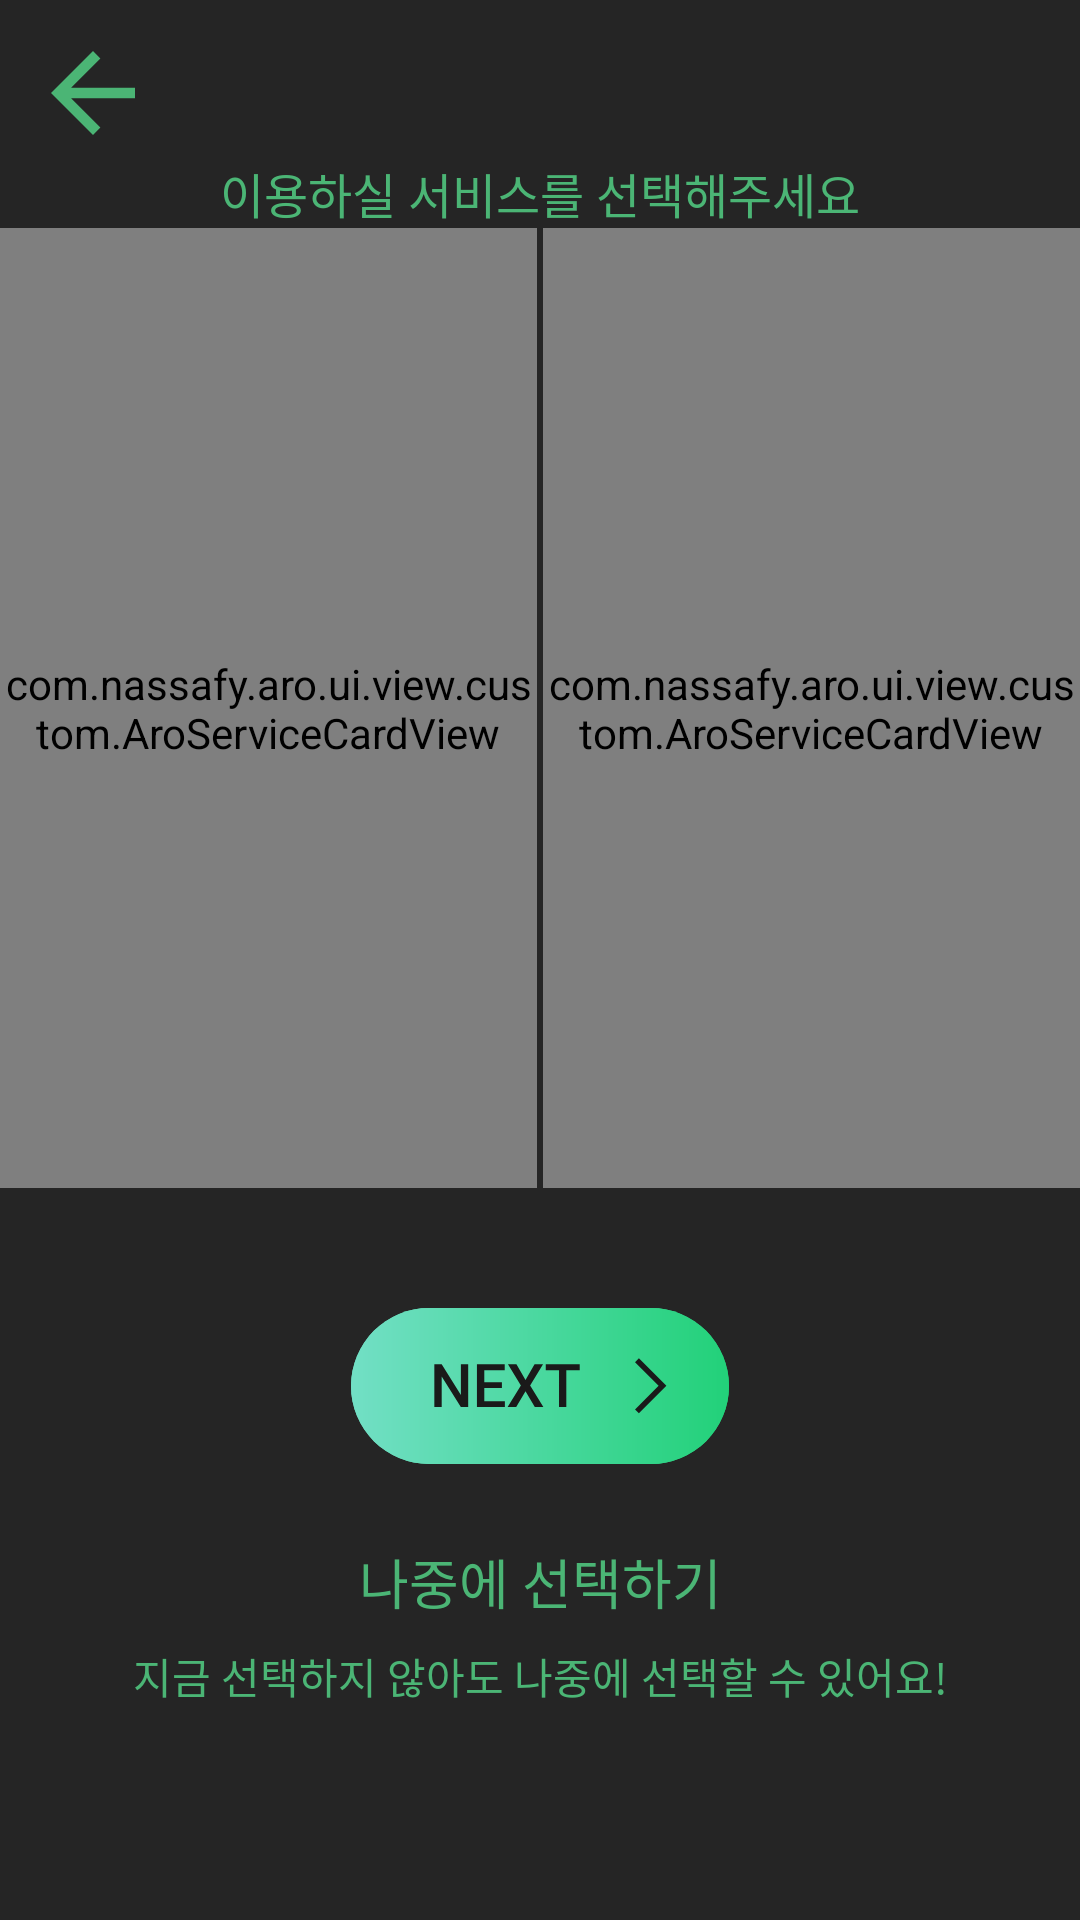

Point at icon controls on the screen. Image size 1080 x 1920, points as [x,y].
back step arrow: [93,93]
